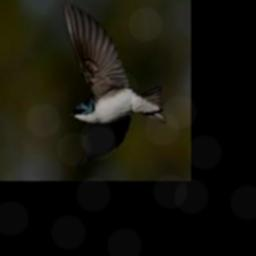Swallow: (62, 1, 166, 166)
